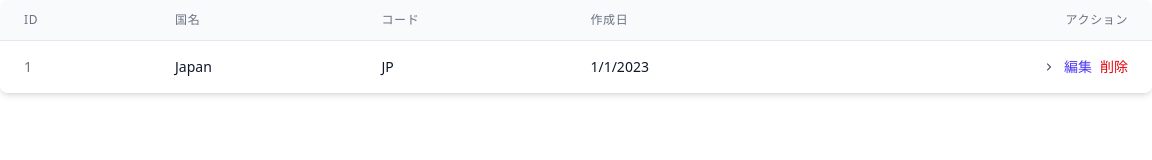
Test case: CountryList Component › should handle cancel edit correctly
The width and height of the screenshot is (1152, 160).
Note: Click edit button
Click the button "編集".
click(1078, 67)  # box [1064,57,1092,77]
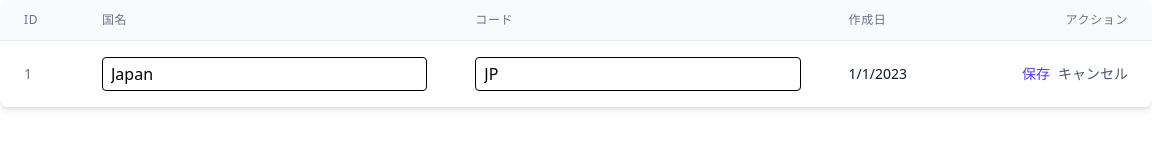
Note: Edit the country name
Replace the text in the 1st field showing "Japan" with "Japan Updated" at (265, 74), box [102,57,427,91]
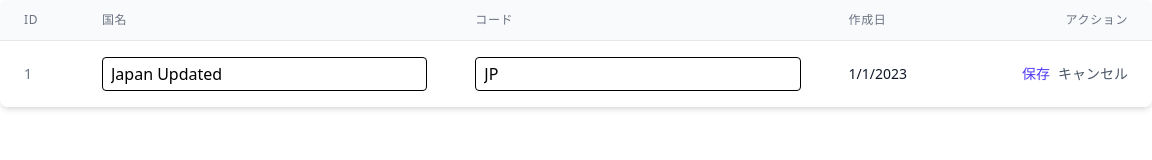
Note: Cancel the changes
Click the button "キャンセル".
click(1093, 74)  # box [1058,64,1128,84]
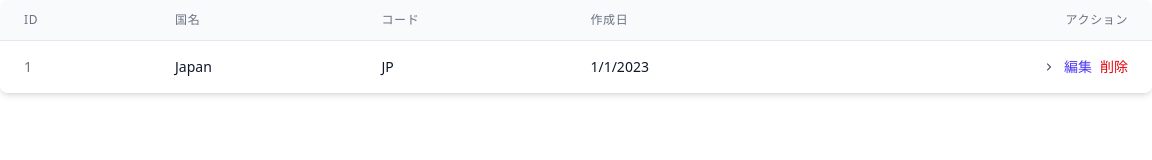
Check: the field showing "Japan Updated" is not shown
Check: the link "Japan" is shown, box [175,57,212,76]
